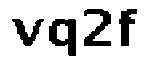2: (79, 4, 113, 50)
f: (116, 6, 139, 48)
q: (47, 17, 82, 60)
v: (11, 15, 44, 49)
